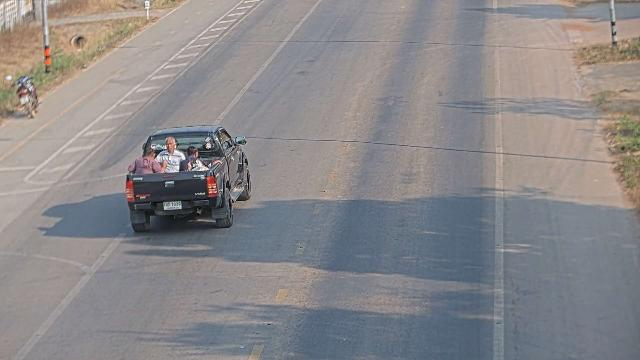pickup-truck: (125, 124, 252, 233)
